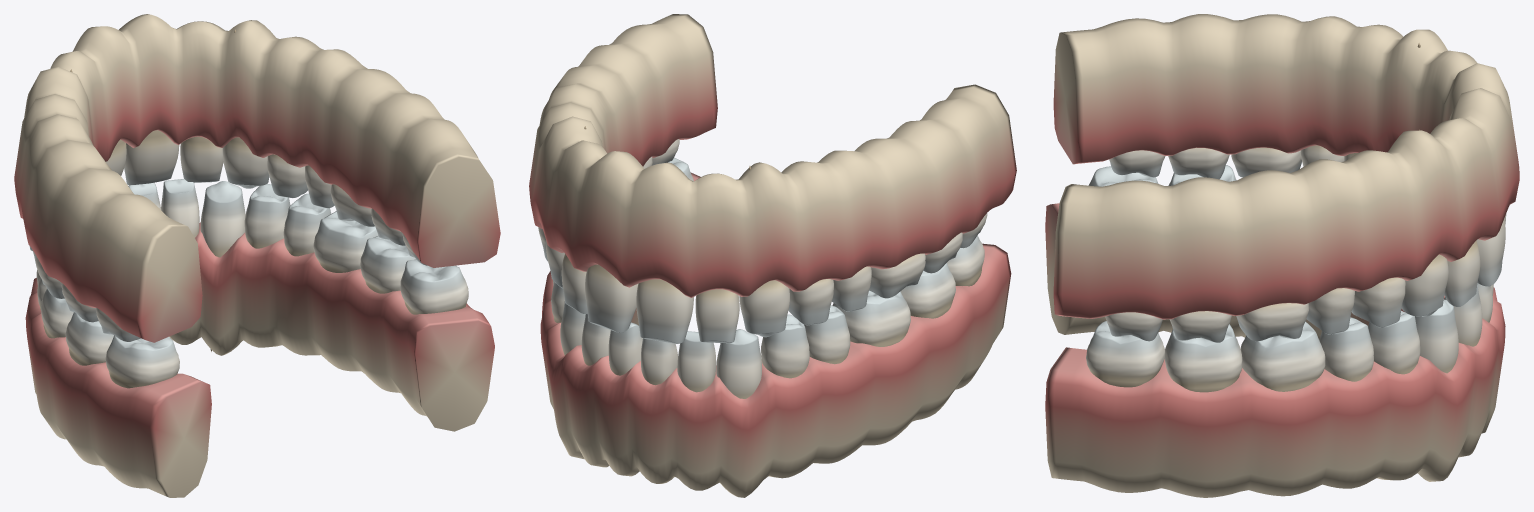
The model's file is teeth.glb.
3 views of the same model, side by side, from view 1: azimuth 30°, elevation 25°; view 2: azimuth 150°, elevation 25°; view 3: azimuth 270°, elevation 25° (orthographic). The views are drawn at different scales.
Parts seen in each view (by area): view 1: gum_upper, gum_lower, tooth_48, tooth_38, tooth_33, tooth_36, tooth_21, tooth_34, tooth_37, tooth_35, tooth_47, tooth_23 (+8 smaller); view 2: gum_upper, gum_lower, tooth_11, tooth_46, tooth_21, tooth_43, tooth_44, tooth_13, tooth_12, tooth_47, tooth_42, tooth_45 (+10 smaller); view 3: gum_upper, gum_lower, tooth_36, tooth_37, tooth_38, tooth_35, tooth_34, tooth_33, tooth_26, tooth_24, tooth_23, tooth_25 (+10 smaller).
Part boxes in pixels (bbox=[...]): gum_upper: bbox=[14, 14, 500, 342]; gum_lower: bbox=[25, 222, 494, 497]; tooth_48: bbox=[105, 335, 179, 388]; tooth_38: bbox=[400, 259, 468, 314]; tooth_33: bbox=[200, 181, 245, 351]; tooth_36: bbox=[313, 211, 378, 272]; tooth_21: bbox=[124, 130, 179, 185]; tooth_34: bbox=[244, 184, 290, 248]; tooth_37: bbox=[360, 236, 415, 293]; tooth_35: bbox=[283, 193, 331, 256]; tooth_47: bbox=[65, 312, 113, 365]; tooth_23: bbox=[222, 29, 269, 188]; gum_upper: bbox=[529, 14, 1016, 297]; gum_lower: bbox=[540, 172, 1011, 497]; tooth_11: bbox=[636, 279, 693, 343]; tooth_46: bbox=[832, 290, 910, 346]; tooth_21: bbox=[585, 264, 638, 332]; tooth_43: bbox=[716, 329, 761, 398]; tooth_44: bbox=[761, 314, 809, 378]; tooth_13: bbox=[739, 166, 789, 337]; tooth_12: bbox=[695, 289, 739, 343]; tooth_47: bbox=[900, 263, 955, 318]; tooth_42: bbox=[677, 331, 716, 392]; tooth_45: bbox=[804, 305, 850, 364]; gum_upper: bbox=[1053, 14, 1519, 319]; gum_lower: bbox=[1045, 203, 1505, 497]; tooth_36: bbox=[1240, 321, 1325, 391]; tooth_37: bbox=[1164, 324, 1242, 392]; tooth_38: bbox=[1086, 321, 1164, 387]; tooth_35: bbox=[1319, 317, 1373, 381]; tooth_34: bbox=[1368, 310, 1420, 374]; tooth_33: bbox=[1415, 299, 1458, 373]; tooth_26: bbox=[1236, 303, 1308, 341]; tooth_24: bbox=[1351, 277, 1405, 327]; tooth_23: bbox=[1401, 129, 1448, 316]; tooth_25: bbox=[1306, 288, 1354, 334].
Size of the model in its own units: 67.75 by 55.97 by 66.12.
